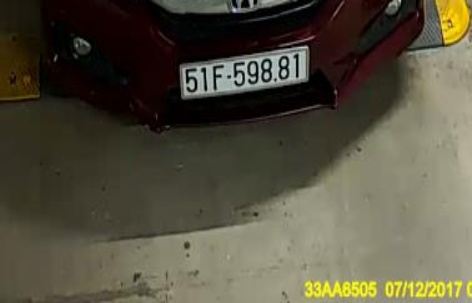plate: (174, 45, 316, 99)
